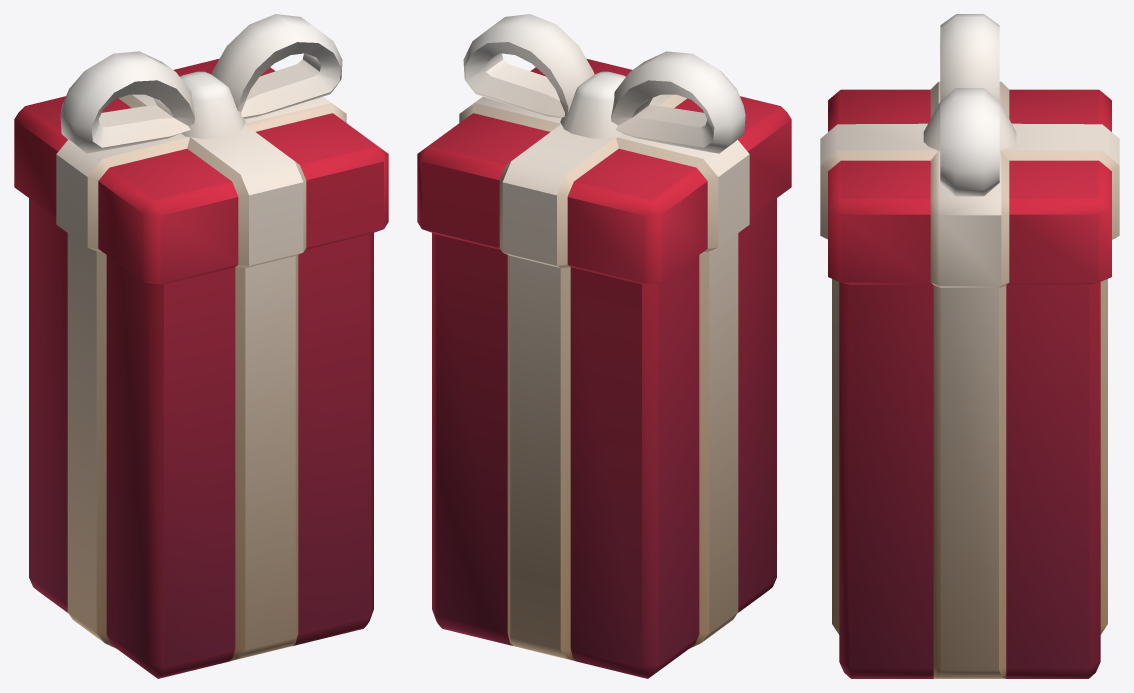
The model's file is present_B_red.obj.
3 views of the same model, side by side, from view 1: azimuth 30°, elevation 25°; view 2: azimuth 150°, elevation 25°; view 3: azimuth 270°, elevation 25° (orthographic).
Visible parts, largest first — view 1: present_B_red; view 2: present_B_red; view 3: present_B_red.
Boxes of the visible parts, x1,y1,x2,y2 form: present_B_red: [14, 14, 388, 678]; present_B_red: [417, 14, 791, 678]; present_B_red: [820, 14, 1119, 678].
Size of the model in its own units: 0.5215 by 1.06 by 0.5038.
1 material, 1 textured.
